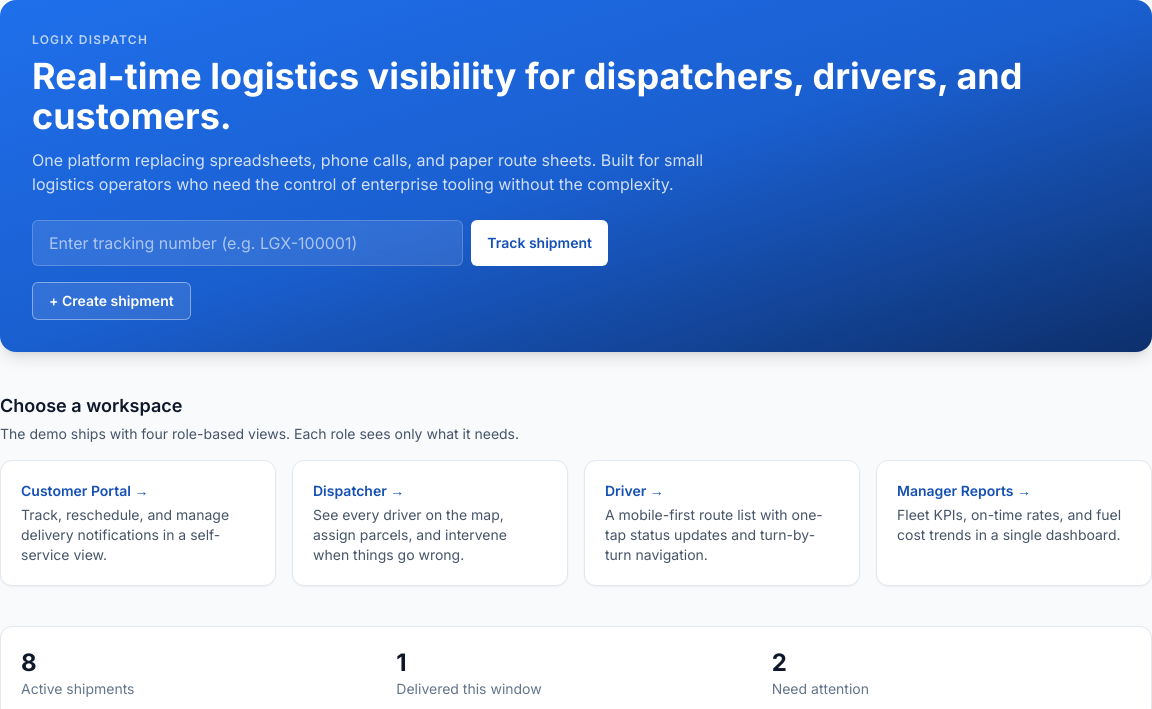
HomePage › shows an error for an unknown tracking number
The image size is (1152, 709).
Type "NOT-A-REAL-ONE" into the field with placeholder "Enter tracking number (e.g. LGX-100001)". click: {"x": 248, "y": 243}
box: [32,220,463,266]
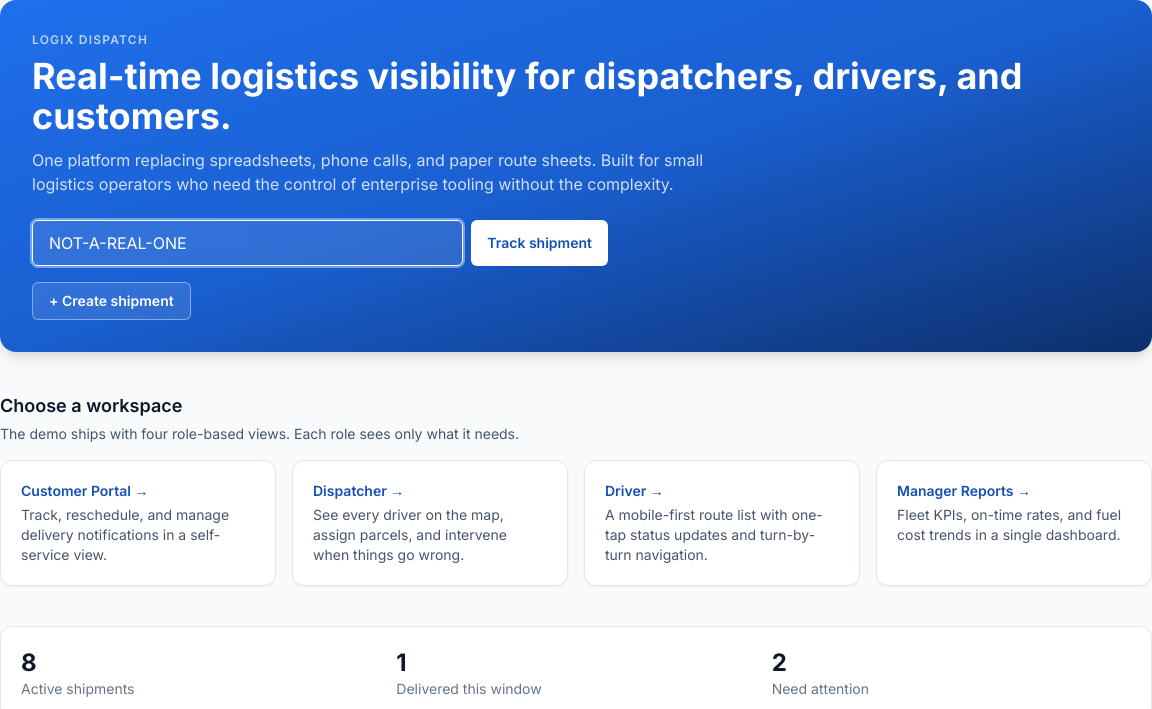
Click the button "Track shipment". click: {"x": 540, "y": 243}
box: [471,220,608,266]
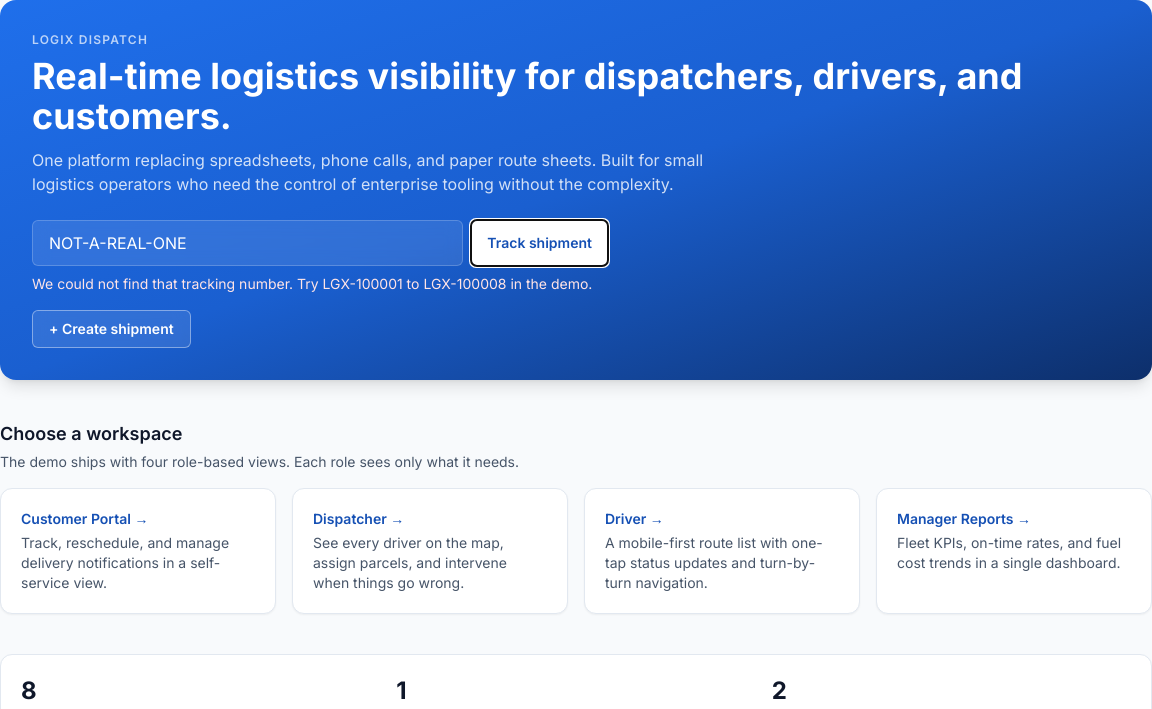
Check: the text "could not find that tracking number" is shown, box [32,275,592,292]
